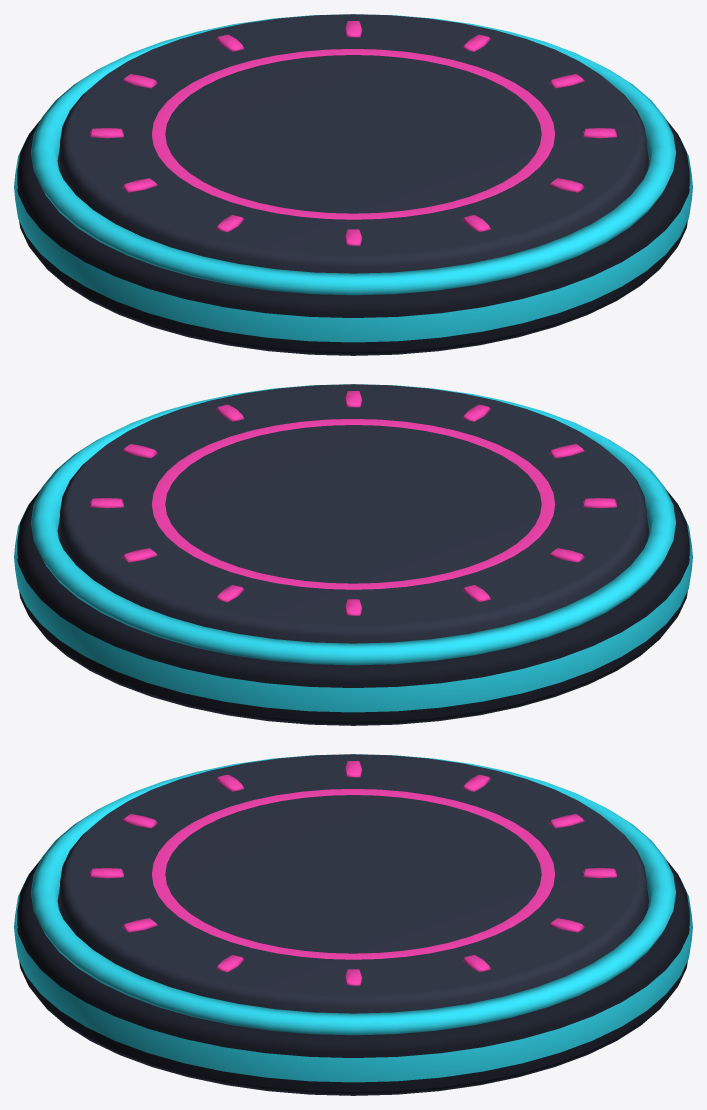
Rendered from portal-pedestal.obj.
3 views of the same model, one above another, from view 1: azimuth 30°, elevation 25°; view 2: azimuth 150°, elevation 25°; view 3: azimuth 270°, elevation 25° (orthographic).
Parts seen in each view (by area): view 1: top, base, ring_cyan, band_cyan, ring_magenta, ticks_magenta; view 2: top, base, ring_cyan, band_cyan, ring_magenta, ticks_magenta; view 3: top, base, ring_cyan, band_cyan, ring_magenta, ticks_magenta.
Part boxes in pixels (x1,y1,x2,y2): top: (60,14,646,273); base: (17,119,689,355); ring_cyan: (31,14,675,295); band_cyan: (14,138,692,342); ring_magenta: (151,49,555,219); ticks_magenta: (90,21,616,245); top: (60,384,646,643); base: (17,489,689,725); ring_cyan: (31,384,675,665); band_cyan: (14,508,692,712); ring_magenta: (151,419,555,589); ticks_magenta: (90,391,616,615); top: (60,754,646,1013); base: (17,859,689,1095); ring_cyan: (31,754,675,1035); band_cyan: (14,878,692,1082); ring_magenta: (151,789,555,959); ticks_magenta: (90,761,616,985).
Size of the model in its own units: 0.303 by 0.042 by 0.303.
